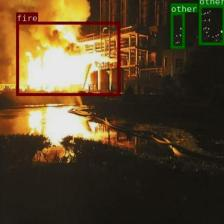fire: (15, 22, 119, 96)
